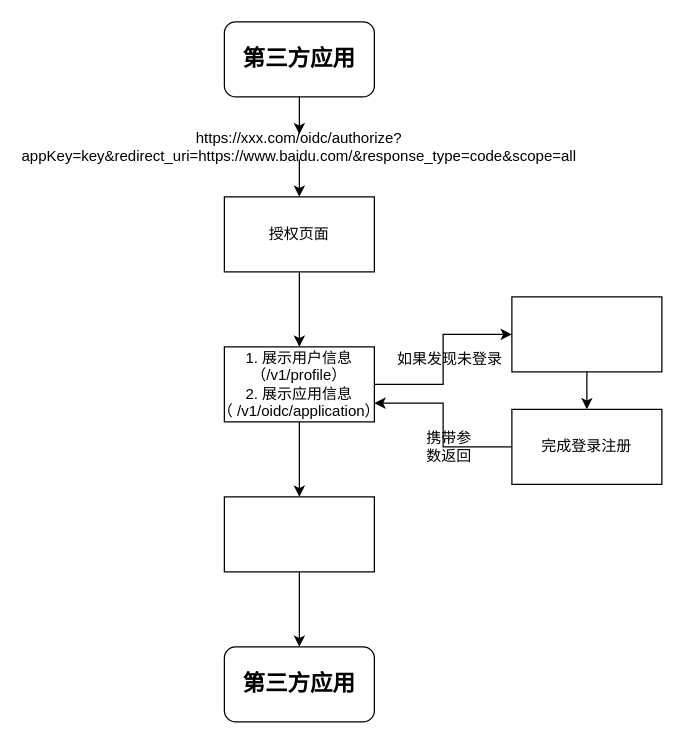
This 684x744 diagram has some shape labels left out. Each missing label, with the centre of its shape:
"点击授权按钮" goes at pixel 298 534.
"登录/注册页面" goes at pixel 586 334.
